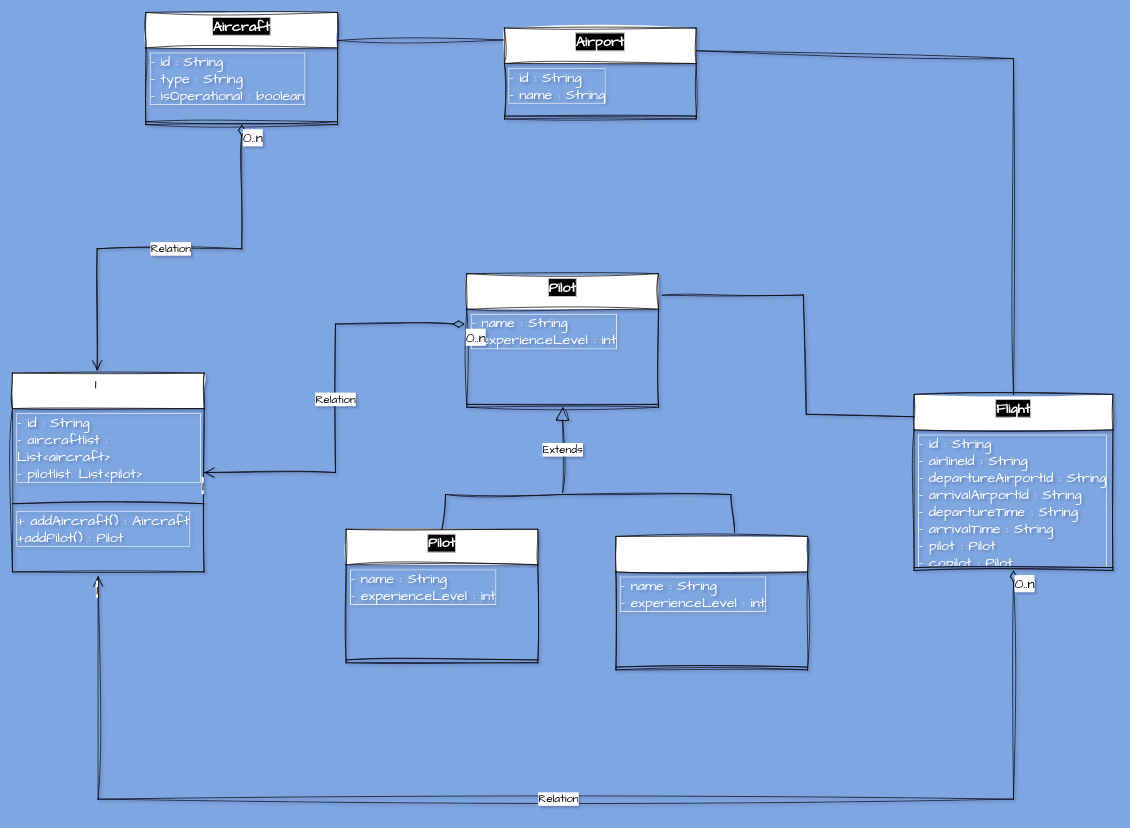
This 1130x828 diagram has some shape labels left out. The shapes that lost their labels are listed below. From the top down, each one's box as (x1, y1, x2, y2) in pixels, then its label:
(12, 372, 204, 572): Airline
(615, 536, 808, 670): Copilot
